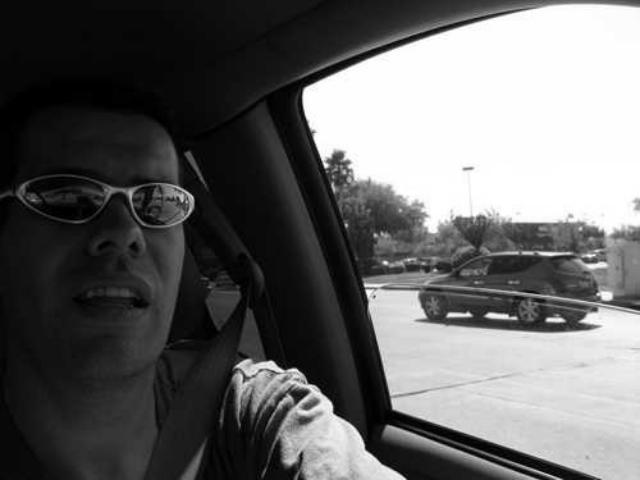Seatbelt: (140, 248, 266, 480)
